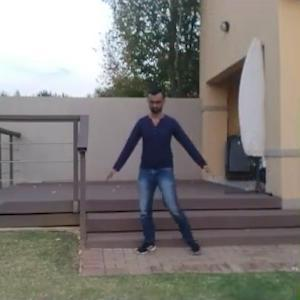land: (116, 88, 222, 262)
